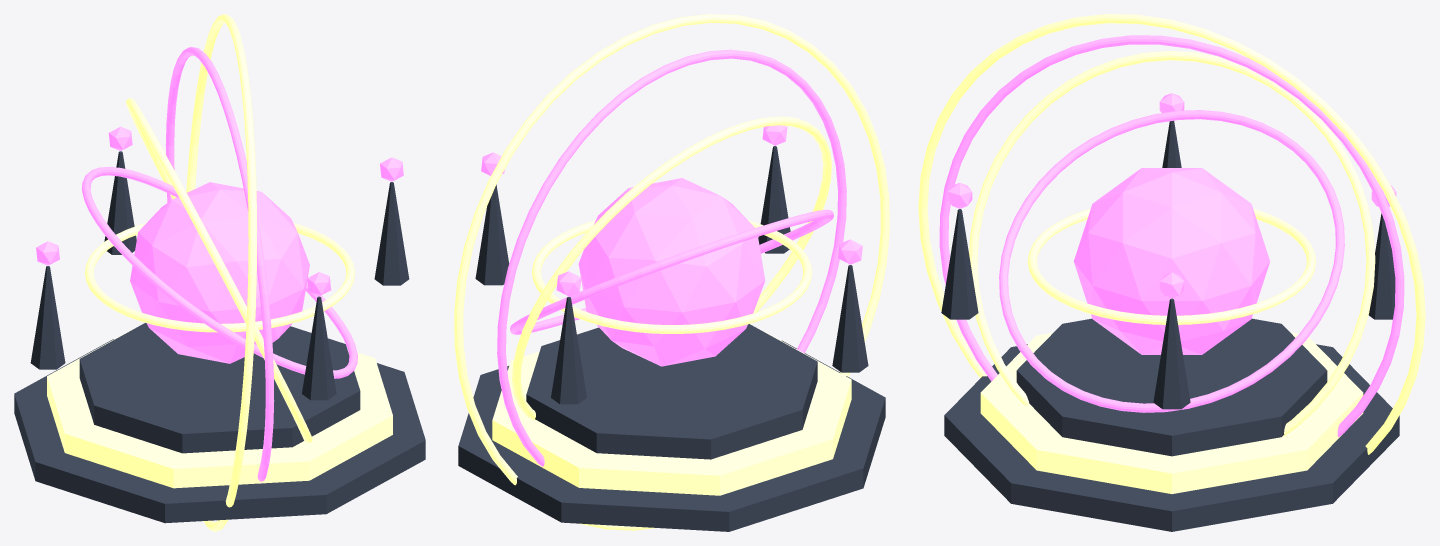
File: gpu-blender-v49.glb
3 views of the same model, side by side, from view 1: azimuth 30°, elevation 25°; view 2: azimuth 150°, elevation 25°; view 3: azimuth 270°, elevation 25° (orthographic). The views are drawn at different scales.
Parts seen in each view (by area): view 1: Cylinder.002, SovereignCore_digital-asset-forge, Cylinder, Cylinder.001, Torus.004, Torus.003, Torus.001, Torus, Torus.002, Cone.003, Cone, Cone.002 (+1 smaller); view 2: Cylinder.002, SovereignCore_digital-asset-forge, Cylinder, Cylinder.001, Torus.004, Torus.003, Torus.002, Torus, Torus.001, Cone.001, Cone.002, Cone (+1 smaller); view 3: SovereignCore_digital-asset-forge, Cylinder.002, Cylinder, Cylinder.001, Torus.004, Torus.001, Torus.003, Torus.002, Torus, Cone, Cone.003, Cone.001 (+1 smaller).
Part boxes in pixels (x1,y1,x2,y2): Cylinder.002: (79,323,360,453); SovereignCore_digital-asset-forge: (130,182,309,363); Cylinder: (14,339,425,523); Cylinder.001: (47,330,392,488); Torus.004: (186,14,257,531); Torus.003: (165,47,274,483); Torus.001: (82,166,357,378); Torus: (85,223,354,332); Torus.002: (126,98,312,442); Cone.003: (302,296,336,400); Cone: (374,182,409,285); Cone.002: (30,266,65,369); Cylinder.002: (526,324,817,459); SovereignCore_digital-asset-forge: (578,178,765,366); Cylinder: (458,340,885,531); Cylinder.001: (492,331,851,495); Torus.004: (454,14,889,530); Torus.003: (497,49,846,466); Torus.002: (512,116,831,419); Torus: (531,220,812,333); Torus.001: (510,209,833,334); Cone.001: (551,297,586,404); Cone.002: (832,265,868,372); Cone: (475,184,509,285); SovereignCore_digital-asset-forge: (1073,168,1270,354); Cylinder.002: (1016,318,1327,456); Cylinder: (944,344,1399,531); Cylinder.001: (980,332,1363,493); Torus.004: (918,14,1425,454); Torus.001: (999,110,1344,412); Torus.003: (939,35,1404,437); Torus.002: (969,51,1375,435); Torus: (1027,209,1316,324); Cone: (1153,298,1190,409); Cone.003: (941,209,978,319); Cone.001: (1368,213,1395,319).
Bounding box in the file's own units: 4.41 × 5.33 × 4.9.
